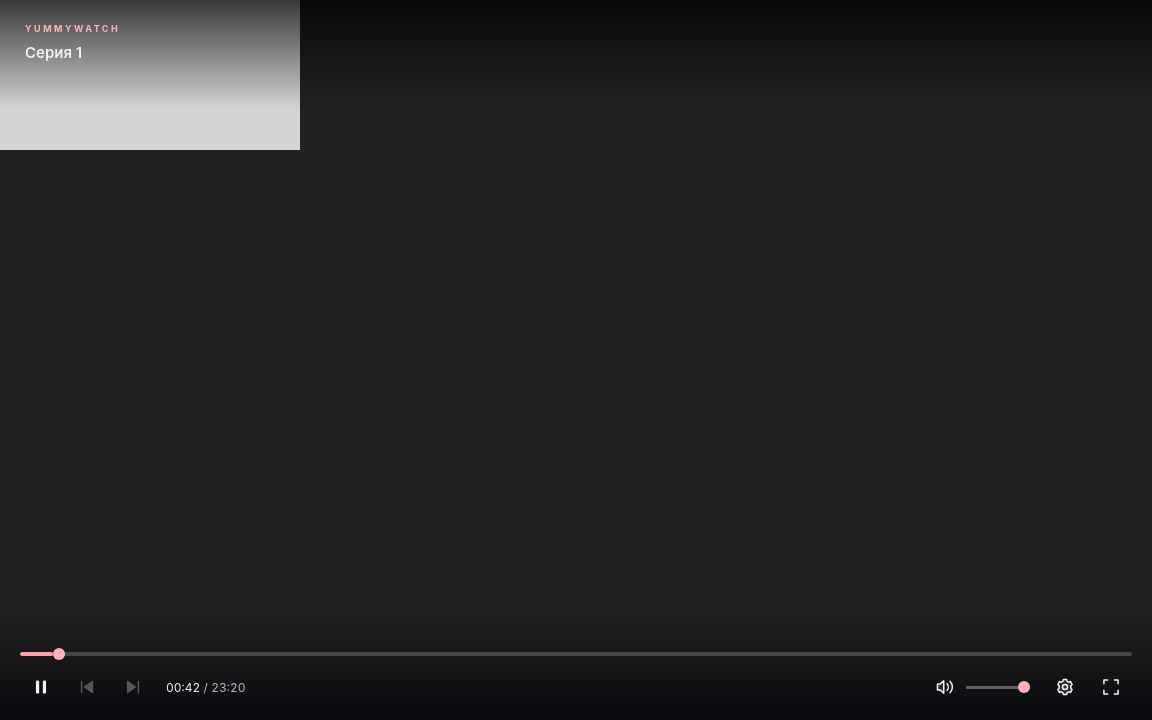
Test: custom playback controls › dismisses settings on outside clicks and consumes clicks on the player
The width and height of the screenshot is (1152, 720).
Click the button named "Настройки плеера": (1065,687) [1044,666,1086,708]
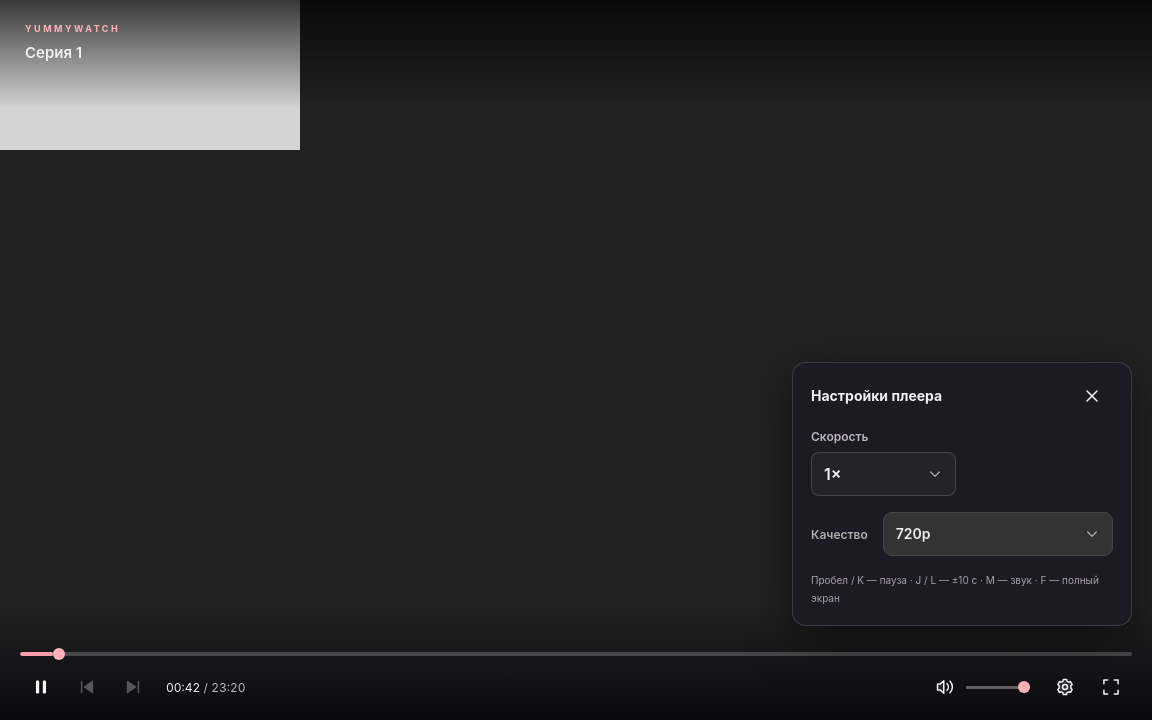
Click the button named "Приостановить видео": (576,360) [0,0,1151,719]
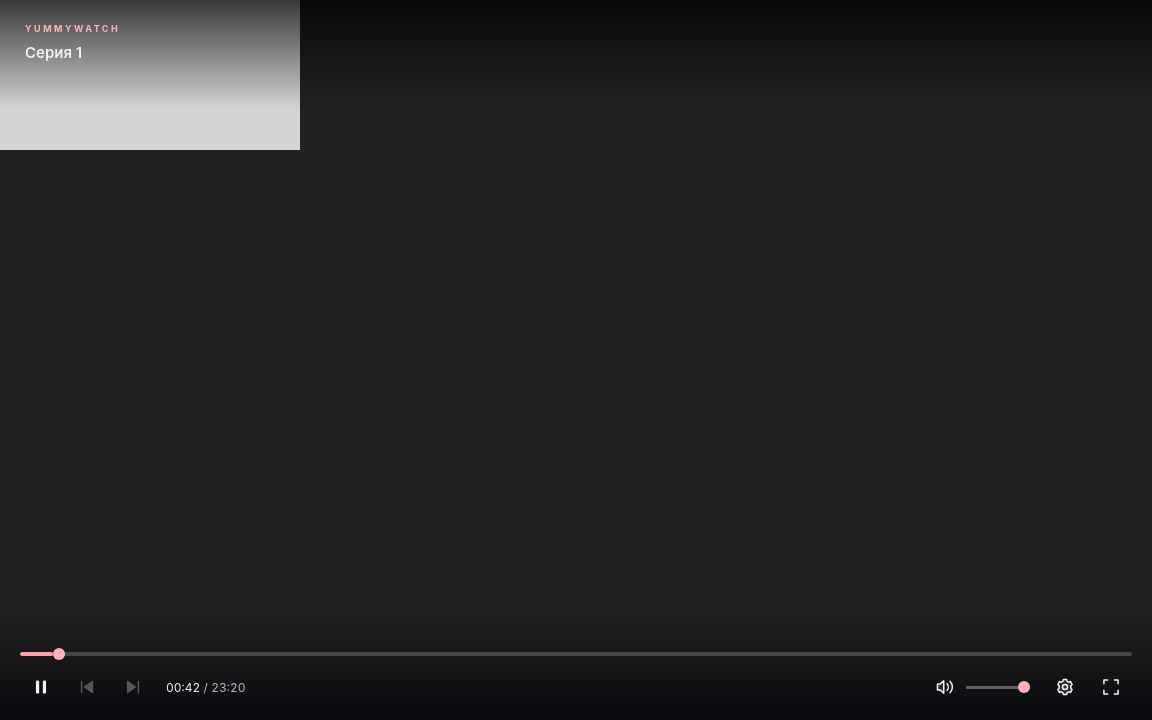
Result: the dialog is gone
Click the button named "Настройки плеера": (1065,687) [1044,666,1086,708]
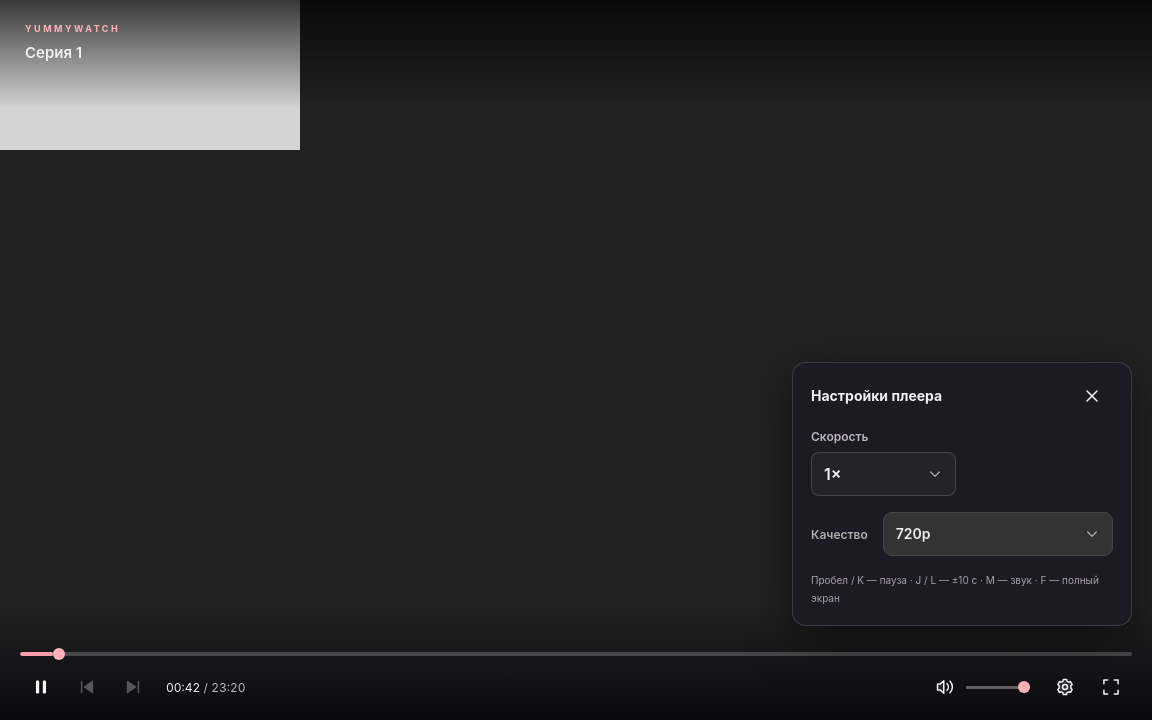
Click the element that starts with "YUMMYWATCH": (576,360) [0,0,1151,719]
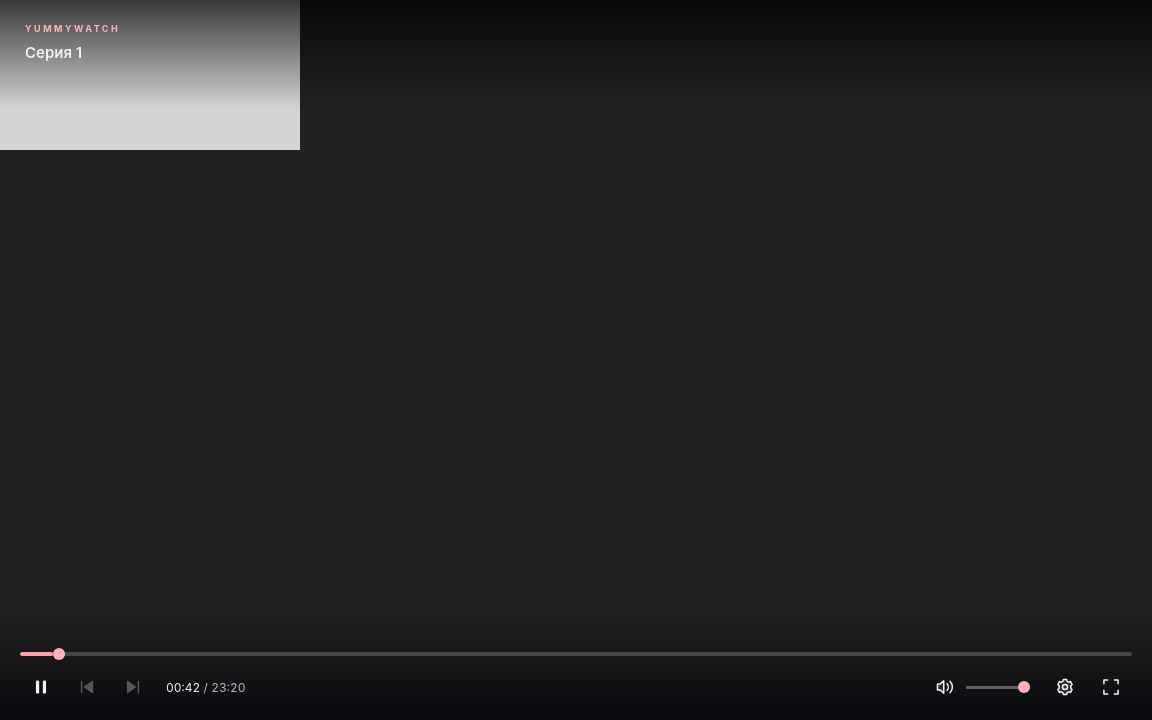
Result: the dialog is gone
